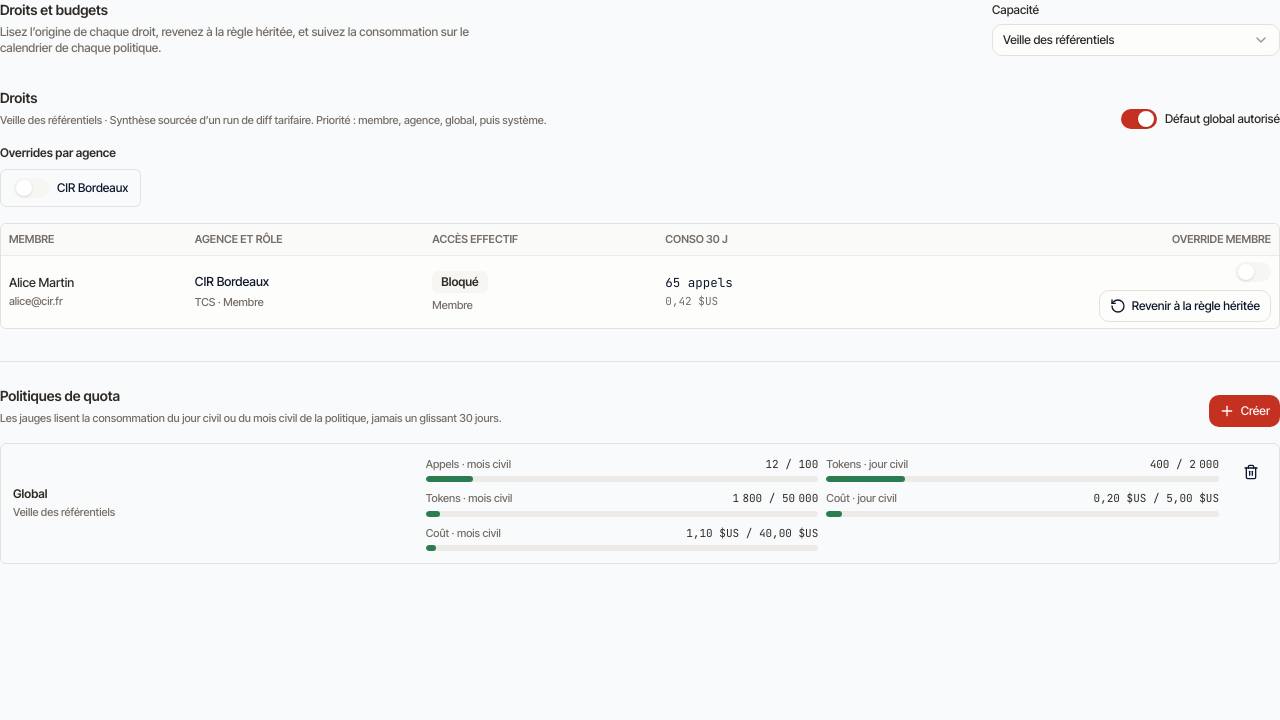
AiRightsBudgetsView › revient à la règle héritée et affiche ensuite l’origine agence
Expected: the column heading "Membre" is shown, [1, 224, 187, 256]
Click the button "Revenir à la règle héritée" at (1185, 306), box [1099, 290, 1271, 322]
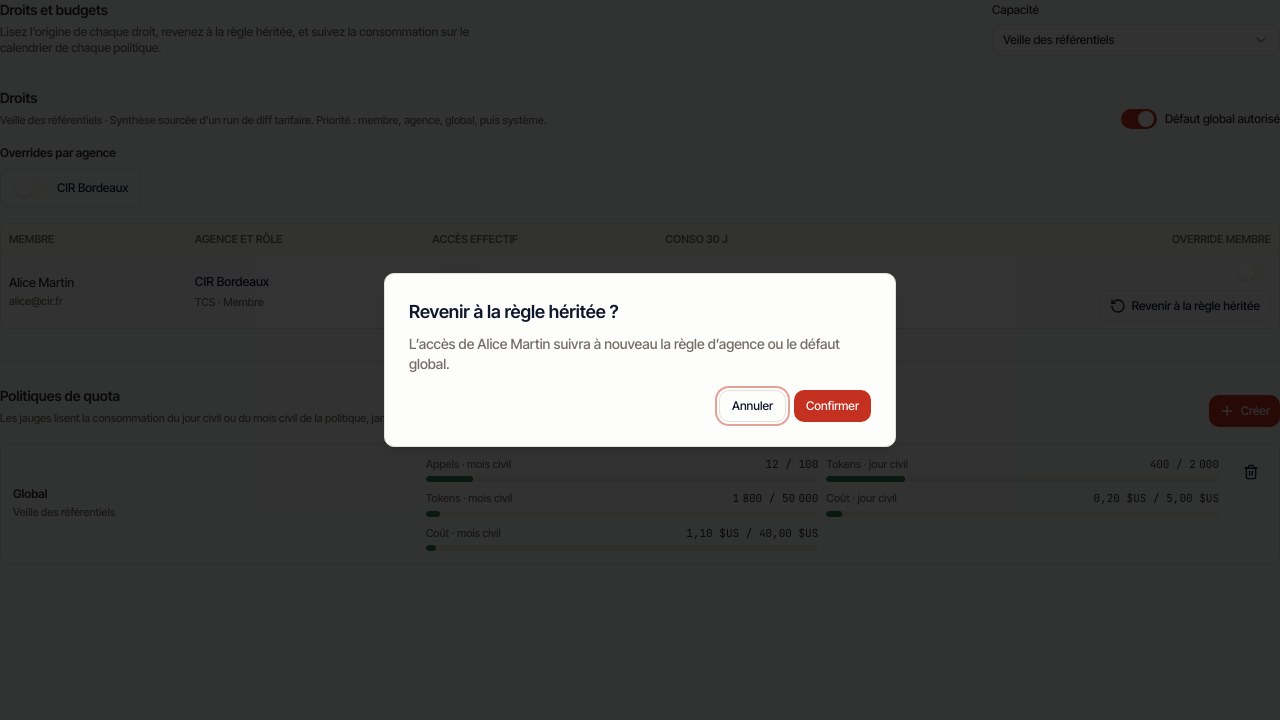
Result: the heading "Revenir à la règle héritée ?" is shown at [409, 301, 619, 322]
Click the button "Confirmer" at (832, 406), box [794, 390, 871, 422]
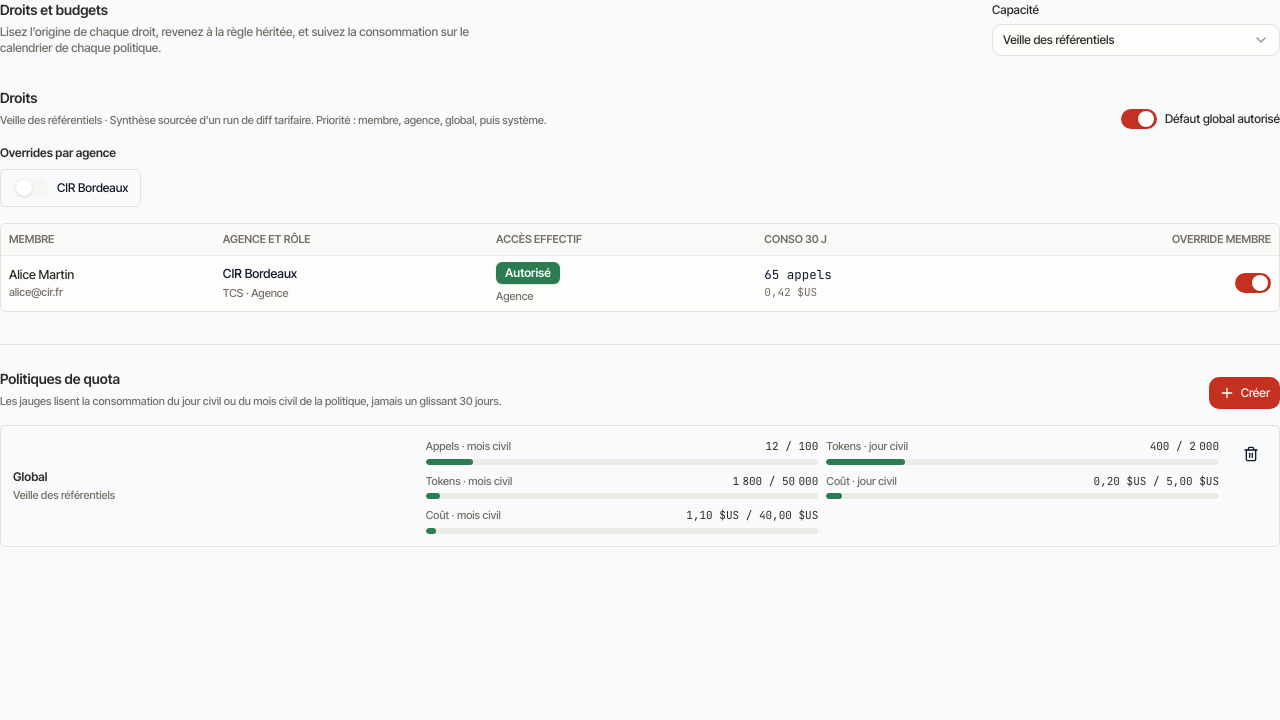
Result: the text "TCS · Agence" is shown at [223, 286, 288, 300]
Result: the button "Revenir à la règle héritée" is gone
